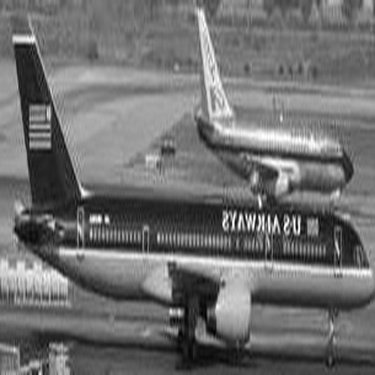airplane: (3, 2, 372, 371), (161, 1, 362, 225)
